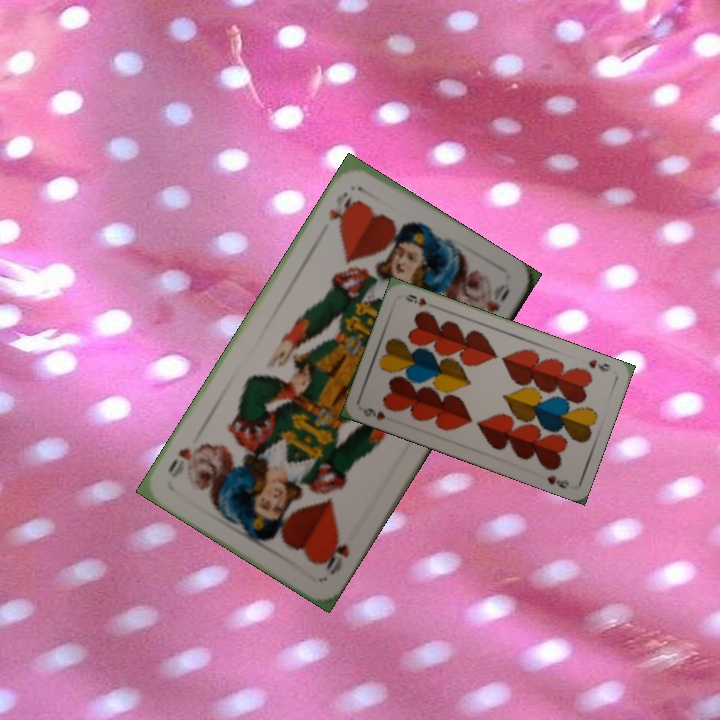H9: (583, 355, 614, 375), (359, 403, 388, 423)
HO: (318, 534, 352, 578), (325, 188, 358, 231)
